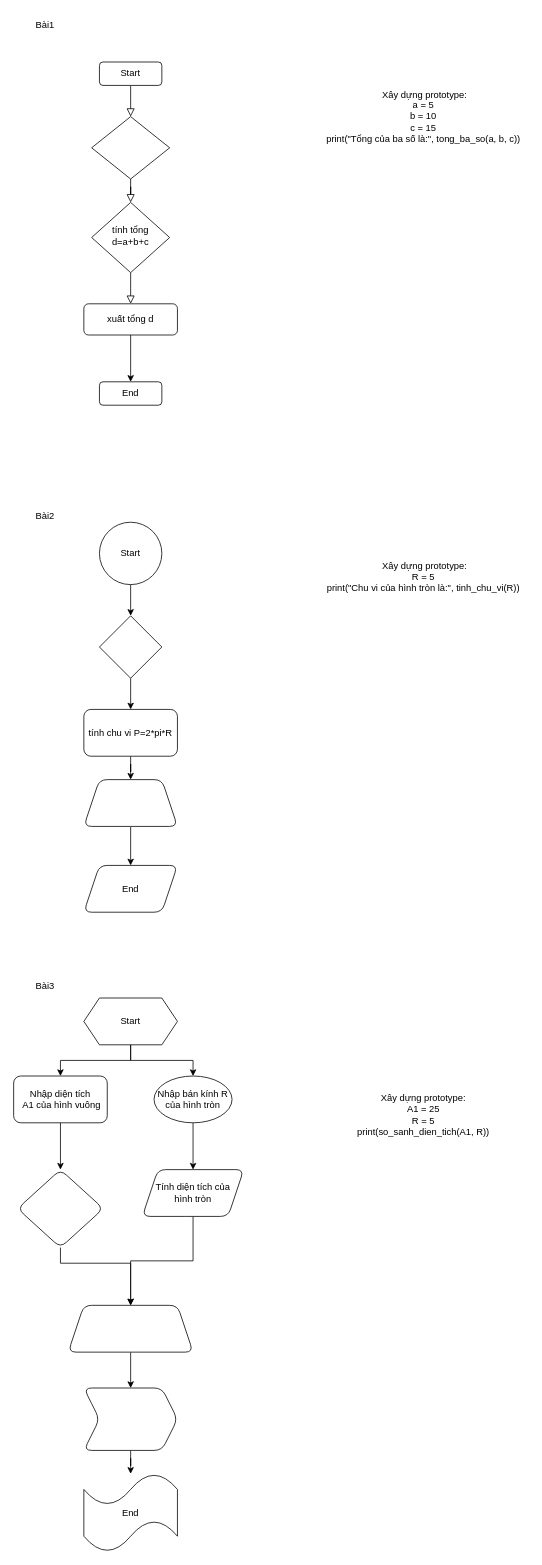
Some shapes in this 542 by 1565 pixel diagram are drawn without their labels. The box of each missing label's shape, as (x1, y1, x2, y2) in pixels:
Nhập a,b,c: (91, 116, 170, 179)
Nhập R: (99, 615, 162, 678)
So sánh diện tích hình vuông và hình tròn: (67, 1305, 193, 1352)
Tính diện tích A1: (17, 1169, 103, 1248)
Xuất kết quả: (83, 1387, 177, 1450)
xuất P: (83, 779, 177, 826)
